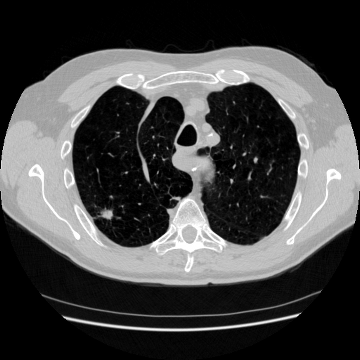nodule: (97, 207, 113, 223)
